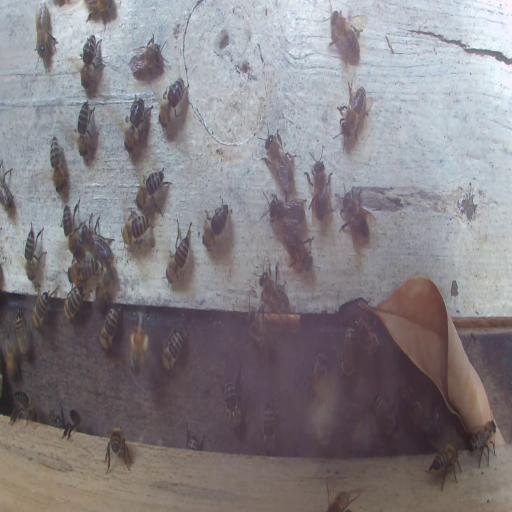bee: (333, 78, 375, 146), (337, 183, 373, 250), (135, 165, 172, 220), (305, 147, 331, 224), (263, 127, 296, 186), (328, 10, 362, 66), (165, 219, 193, 286), (425, 442, 462, 492), (127, 33, 168, 77), (34, 2, 57, 72), (74, 99, 98, 166), (259, 261, 290, 312), (201, 200, 232, 250), (280, 224, 314, 269), (246, 308, 275, 360), (22, 221, 46, 283), (122, 95, 148, 152), (82, 214, 112, 262), (158, 80, 187, 128), (129, 311, 150, 377), (80, 34, 103, 94), (352, 308, 380, 357), (469, 419, 496, 468), (104, 426, 132, 472), (398, 380, 422, 432), (269, 192, 304, 225), (372, 390, 398, 433), (160, 326, 184, 372), (222, 375, 242, 430), (121, 210, 149, 248), (63, 205, 81, 262), (63, 282, 89, 319), (309, 351, 328, 401), (68, 256, 100, 285), (31, 289, 53, 331), (99, 306, 119, 352), (10, 390, 36, 424), (339, 325, 355, 380), (50, 135, 64, 193), (84, 0, 118, 23), (0, 160, 15, 211), (62, 406, 83, 440), (4, 338, 20, 382), (15, 307, 29, 356), (96, 268, 113, 307), (325, 486, 350, 512), (263, 400, 275, 452), (51, 409, 62, 427)
